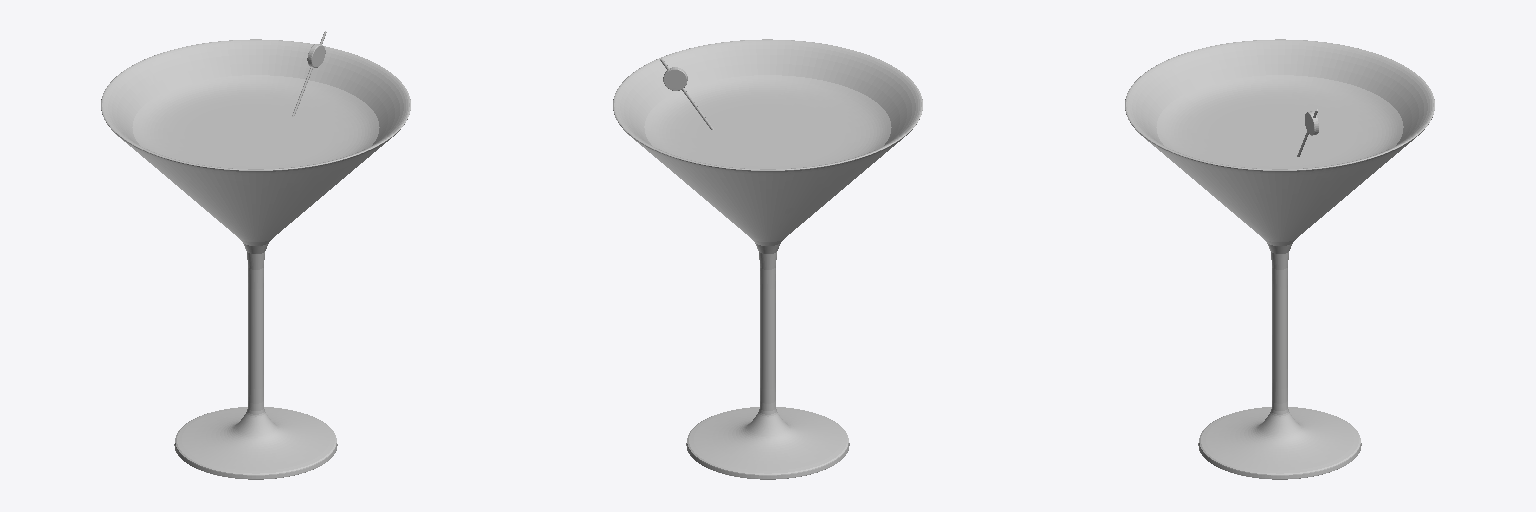
File: Dry Martini.obj
3 renders of one model, left to right at view 1: azimuth 30°, elevation 25°; view 2: azimuth 150°, elevation 25°; view 3: azimuth 270°, elevation 25°, orthographic.
Parts seen in each view (by area): view 1: Dry_Martini_Glass, Dry_Martini_Drink; view 2: Dry_Martini_Glass, Dry_Martini_Drink, Stick; view 3: Dry_Martini_Glass, Dry_Martini_Drink.
Boxes of the visible parts, box(x1,y1,x2,y2) form: Dry_Martini_Glass: box(101, 39, 410, 479); Dry_Martini_Drink: box(132, 75, 379, 168); Dry_Martini_Glass: box(613, 39, 922, 479); Dry_Martini_Drink: box(644, 75, 891, 168); Stick: box(660, 58, 713, 129); Dry_Martini_Glass: box(1125, 39, 1434, 479); Dry_Martini_Drink: box(1156, 75, 1403, 168).
Size of the model in its own units: 0.1334 by 0.18 by 0.1334.